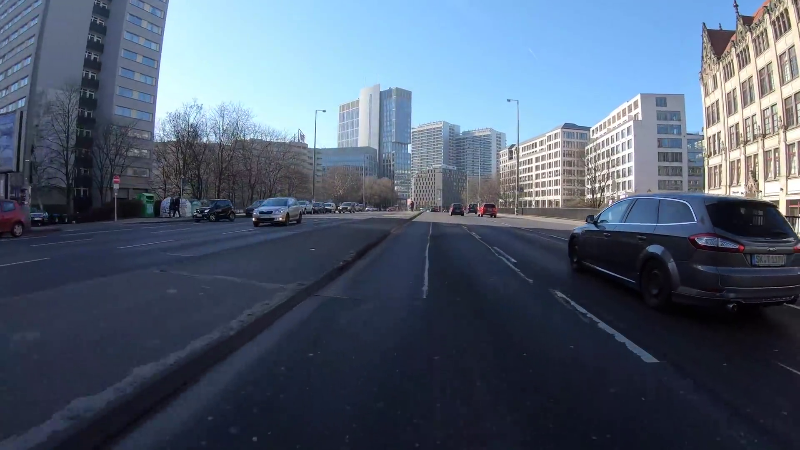Plate: (747, 252, 788, 269)
